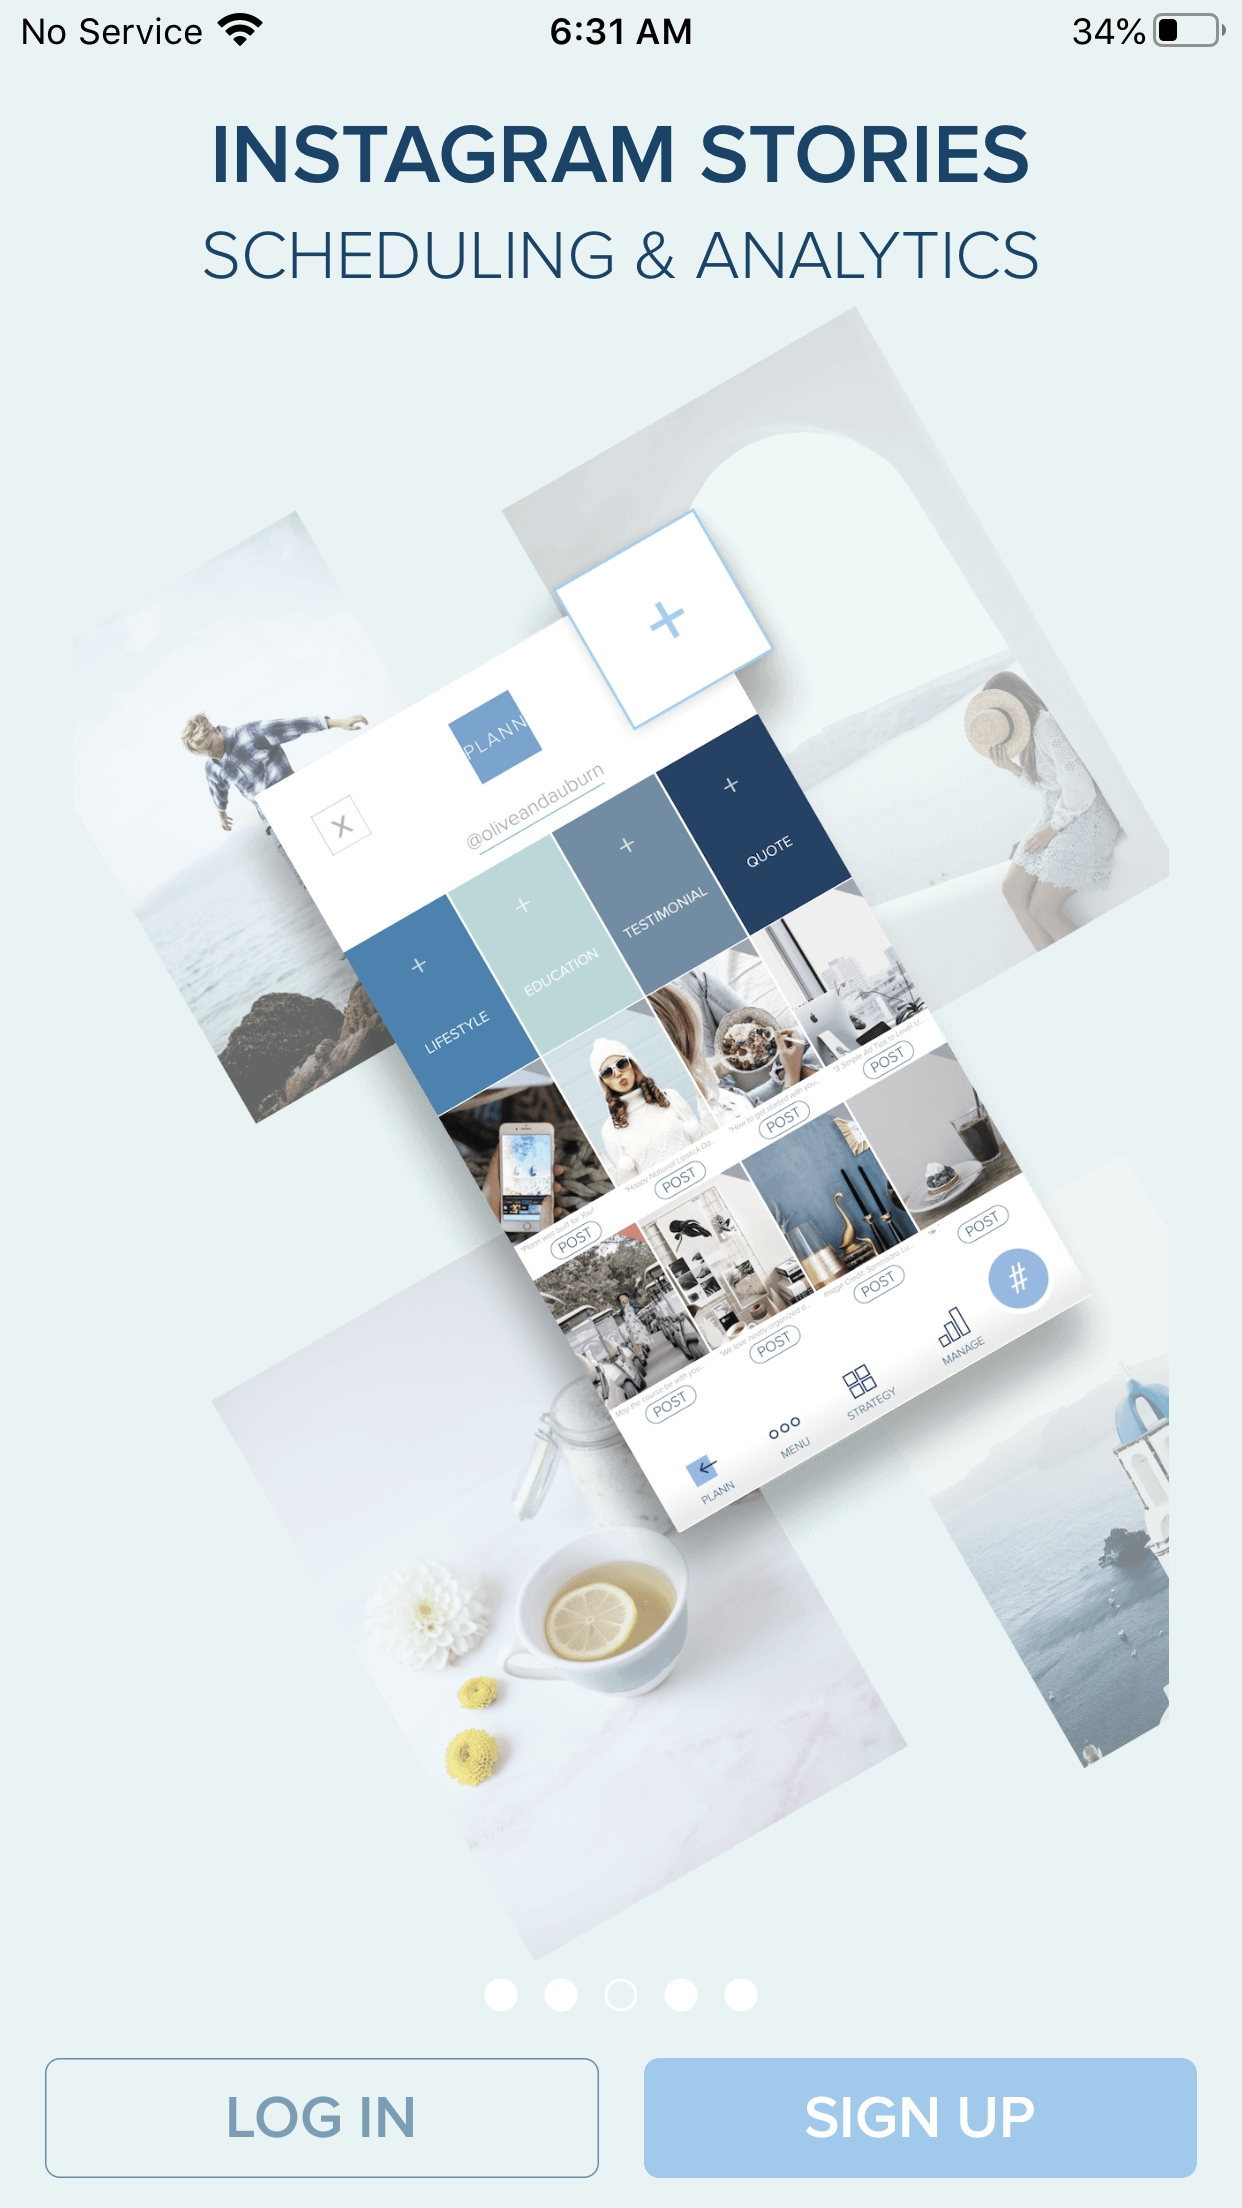BackgroundImage: (2, 2, 1242, 2208)
PageIndicator: (484, 1977, 758, 2012)
Text: (215, 124, 1028, 183), (205, 231, 1037, 279)
TextButton: (45, 2056, 599, 2178), (645, 2056, 1197, 2178)
UpperTaskBar: (2, 2, 1242, 49)
